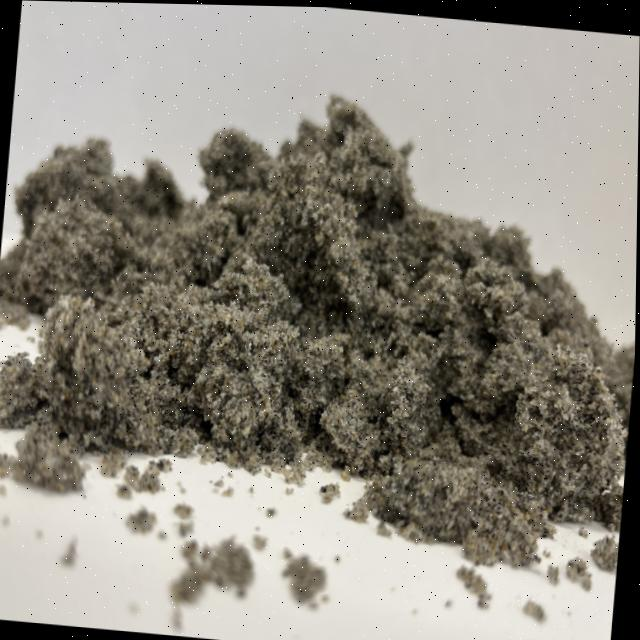sand: (0, 59, 639, 570)
